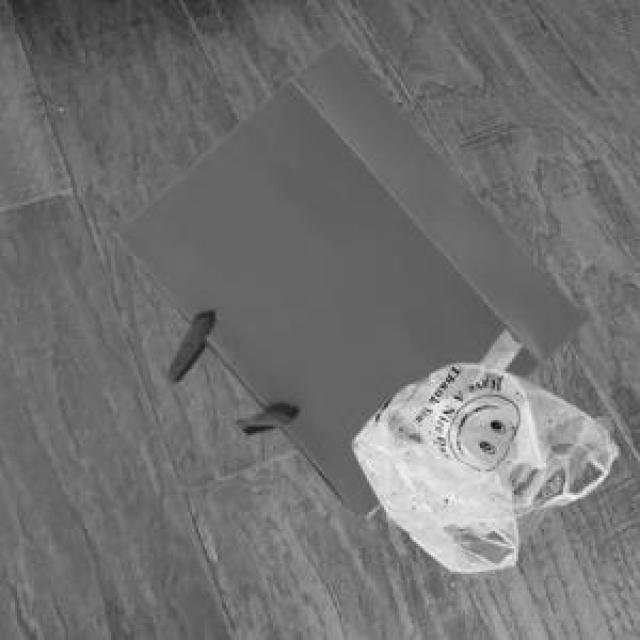paper: (113, 34, 582, 514)
